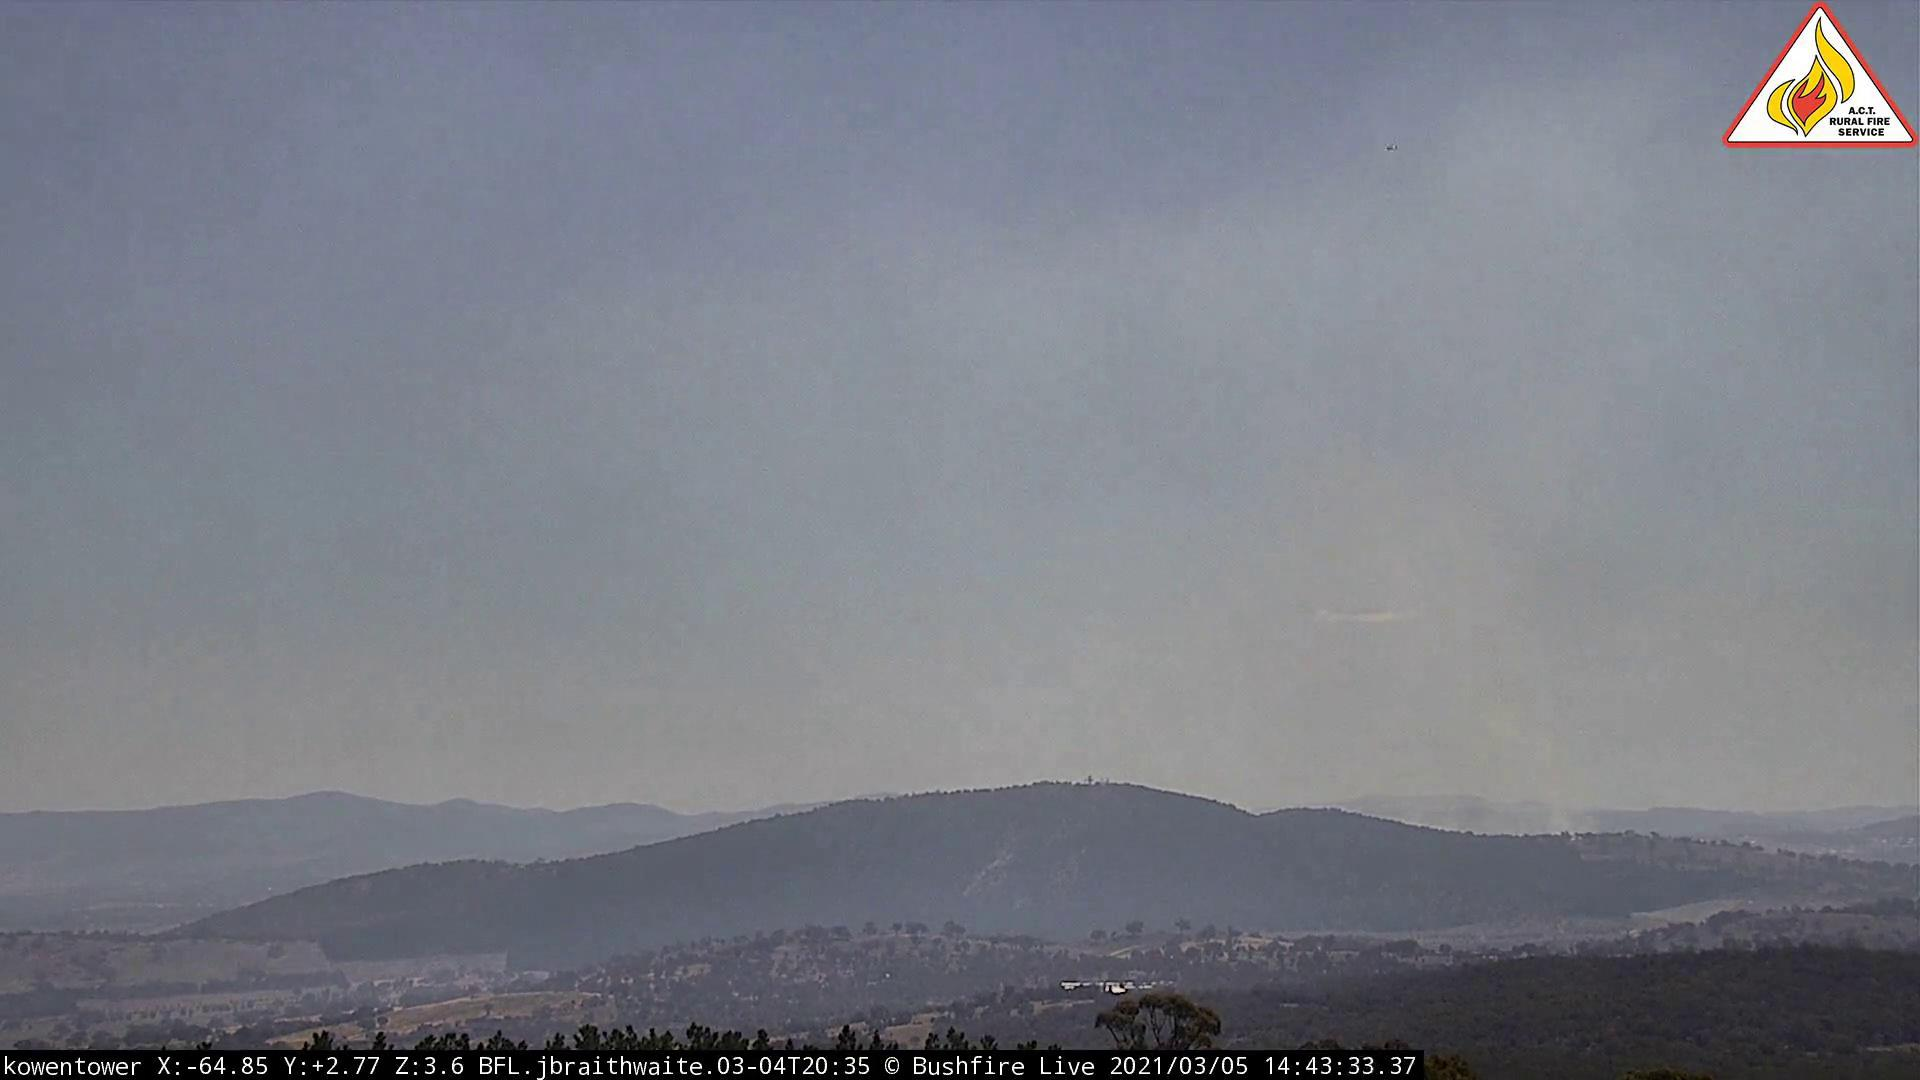Smoke: (1342, 593, 1589, 851)
